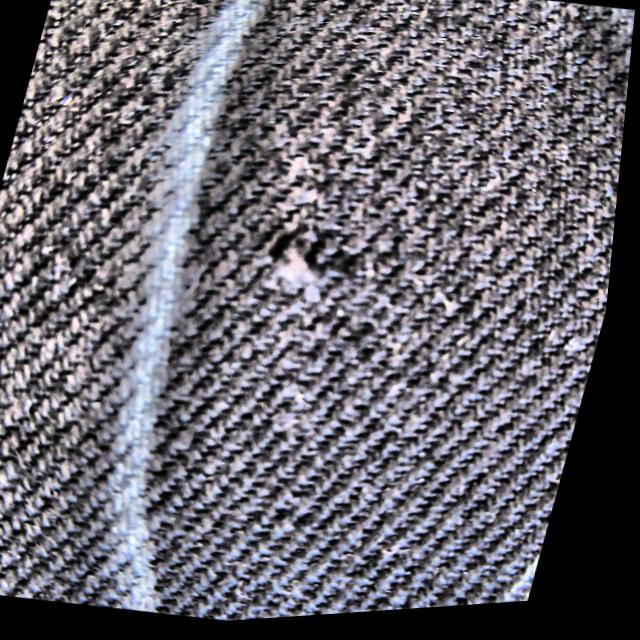Hole: (260, 227, 328, 312)
